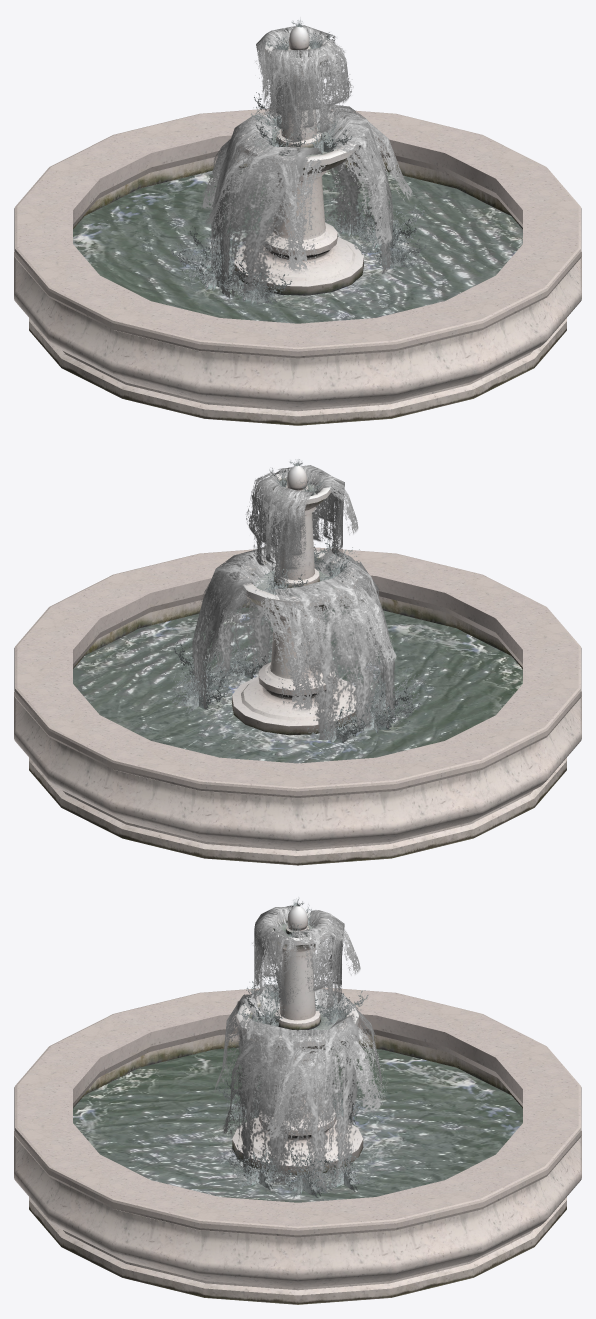
Rendered from fountain.glb.
3 views of the same model, one above another, from view 1: azimuth 30°, elevation 25°; view 2: azimuth 150°, elevation 25°; view 3: azimuth 270°, elevation 25° (orthographic).
Parts seen in each view (by area): view 1: Object002_Material #2_0, Object002_Material #3_0, Object002_Material #23_0, Object006_Material #49_0, Object005_Material #49_0, Plane001, Plane009, Plane007, Plane008, Plane006, Object004_Material #49_0, Object007_Material #49_0 (+3 smaller); view 2: Object002_Material #2_0, Object002_Material #3_0, Object002_Material #23_0, Plane001, Plane009, Plane005, Plane007, Object008_Material #49_0, Plane010, Object003_Material #49_0, Plane006, Plane008 (+1 smaller); view 3: Object002_Material #2_0, Object002_Material #3_0, Object002_Material #23_0, Object004_Material #49_0, Object003_Material #49_0, Object005_Material #49_0, Plane007, Object009_Material #49_0, Plane006, Plane005, Object006_Material #49_0, Plane014 (+2 smaller).
Part boxes in pixels (box(x1,y1,x2,y2)): Object002_Material #2_0: box(14, 108, 581, 425); Object002_Material #3_0: box(73, 167, 522, 323); Object002_Material #23_0: box(211, 25, 393, 299); Object006_Material #49_0: box(248, 151, 345, 272); Object005_Material #49_0: box(332, 135, 393, 246); Plane001: box(199, 137, 265, 227); Plane009: box(171, 243, 251, 296); Plane007: box(351, 202, 424, 250); Plane008: box(218, 265, 292, 305); Plane006: box(354, 228, 426, 269); Object004_Material #49_0: box(342, 116, 412, 201); Object007_Material #49_0: box(259, 49, 291, 116); Object002_Material #2_0: box(14, 547, 581, 865); Object002_Material #3_0: box(73, 607, 522, 763); Object002_Material #23_0: box(192, 465, 395, 739); Plane001: box(250, 585, 396, 711); Plane009: box(342, 678, 421, 737); Plane005: box(168, 663, 235, 715); Plane007: box(172, 640, 251, 694); Object008_Material #49_0: box(256, 487, 290, 554); Plane010: box(306, 706, 370, 745); Object003_Material #49_0: box(208, 569, 249, 663); Plane006: box(214, 636, 272, 685); Plane008: box(357, 667, 422, 711); Object002_Material #2_0: box(14, 987, 581, 1304); Object002_Material #3_0: box(73, 1047, 522, 1202); Object002_Material #23_0: box(232, 905, 363, 1191); Object004_Material #49_0: box(258, 1047, 340, 1139); Object003_Material #49_0: box(322, 1025, 387, 1113); Object005_Material #49_0: box(223, 1025, 284, 1134); Plane007: box(258, 1143, 336, 1201); Object009_Material #49_0: box(262, 929, 300, 1005); Plane006: box(223, 1141, 287, 1192); Plane005: box(309, 1143, 373, 1193); Object006_Material #49_0: box(214, 994, 259, 1092); Plane014: box(314, 990, 368, 1026).
Bounding box in the file's own units: 682 × 381 × 672.
Materials: 5 (5 with a texture image).
